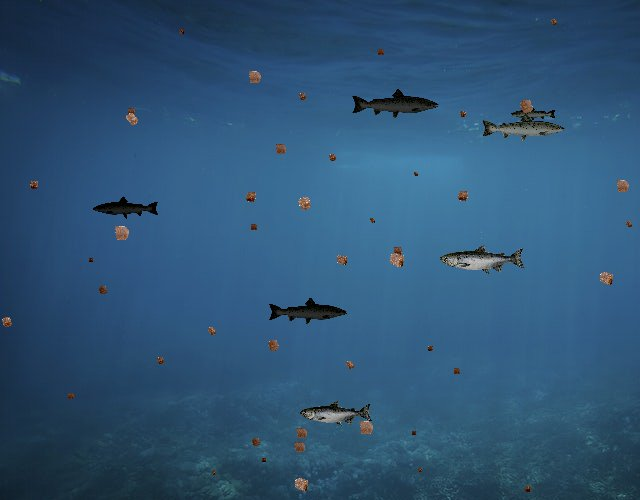Fish: (351, 87, 441, 120), (480, 112, 566, 143), (440, 244, 526, 275), (268, 297, 349, 326), (301, 400, 374, 427), (93, 196, 161, 220), (510, 106, 557, 123)
Pellet: (106, 218, 136, 248), (241, 63, 268, 90), (240, 186, 262, 208), (0, 311, 18, 333), (340, 356, 359, 375), (388, 242, 406, 260), (373, 45, 388, 59), (520, 482, 534, 496), (424, 343, 437, 356), (175, 25, 188, 38), (208, 467, 218, 478)
